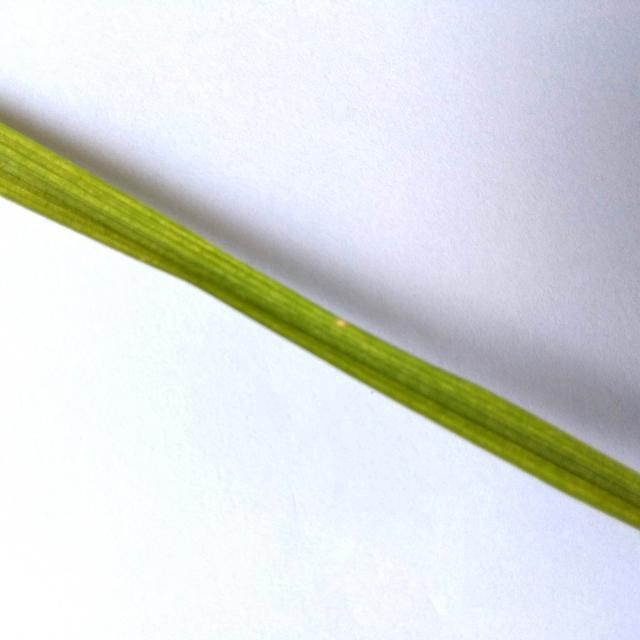Blast: (333, 317, 355, 332)
